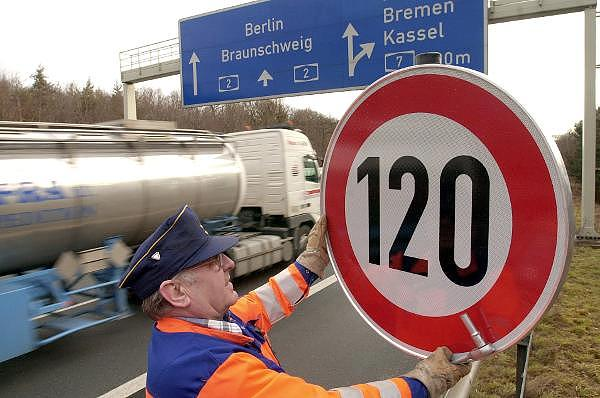Speed_limit_120km: (315, 64, 576, 365)
